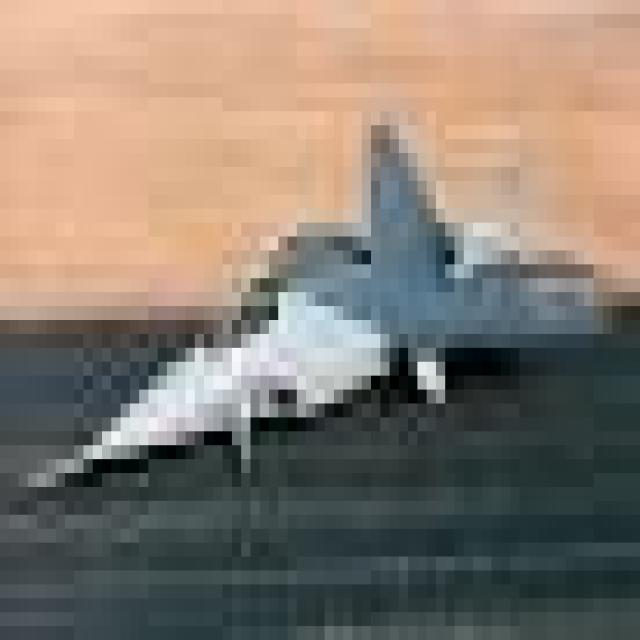F22: (25, 125, 636, 595)
